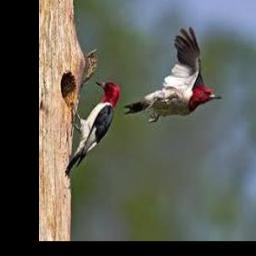Woodpecker: (123, 27, 222, 123), (65, 80, 121, 177)
